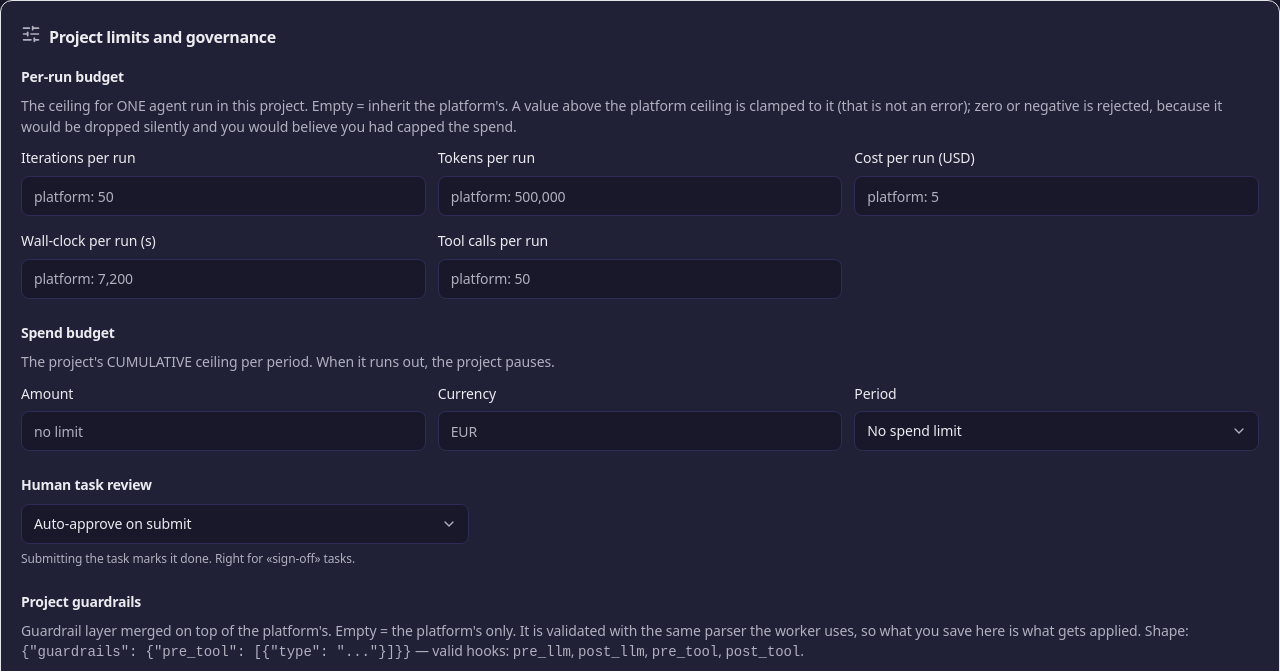
Test: governance-section — el catálogo y los problemas del módulo puro › el periodo personalizado descubre dos campos más, y también se traducen
Step 1. Select "Custom" in the dropdown with test id "budget-period" → coordinates (1057, 431), box [854, 411, 1259, 451]
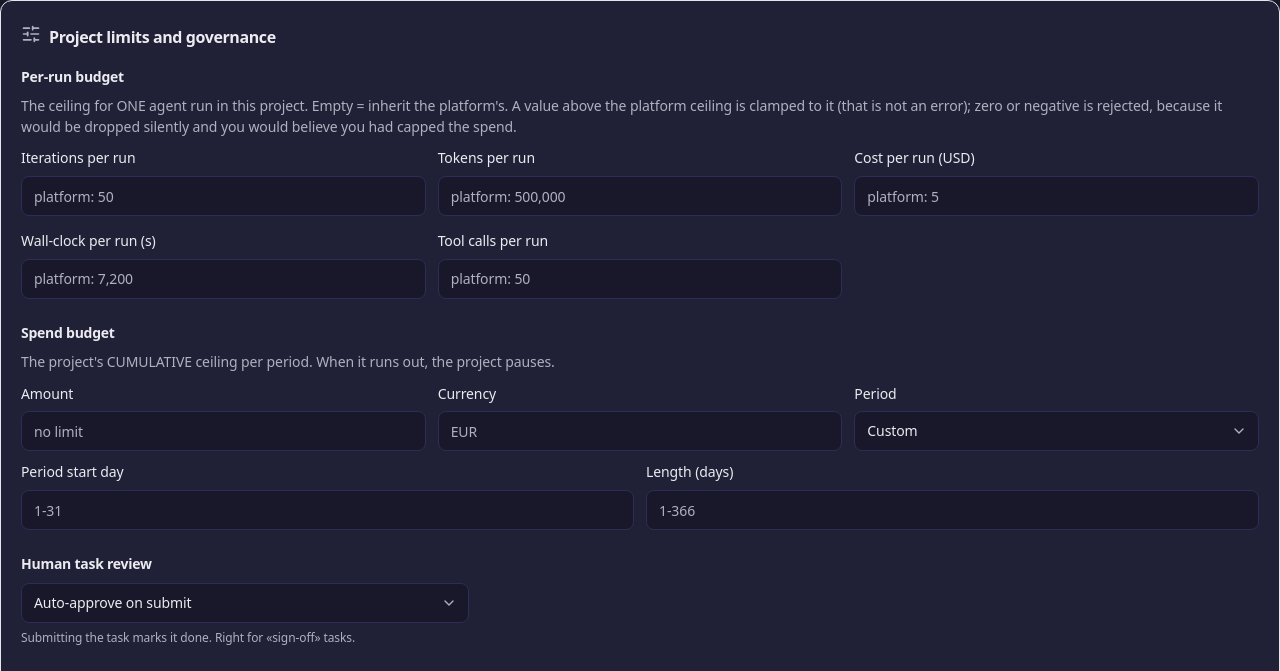
Now the text "Period start day" is shown, box [21, 462, 124, 481]
Now the text "Length (days)" is shown, box [646, 462, 733, 481]
